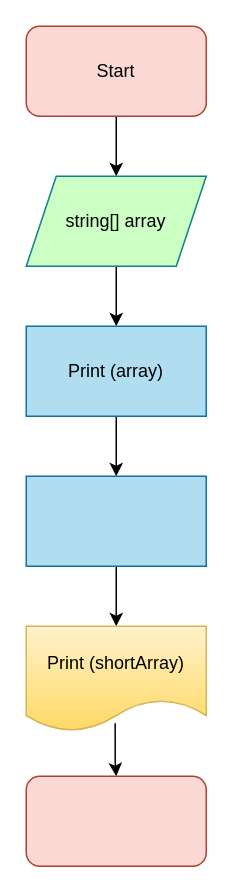
The diagram is 233 pixels wide and 893 high, and some of its shapes have lost their labels. Here are the shapes that lost their labels. From the top down, the centre of each, then its label:
At point (115, 520): "метод ShortString (array) => shortArray".
At point (115, 820): "Finish".
